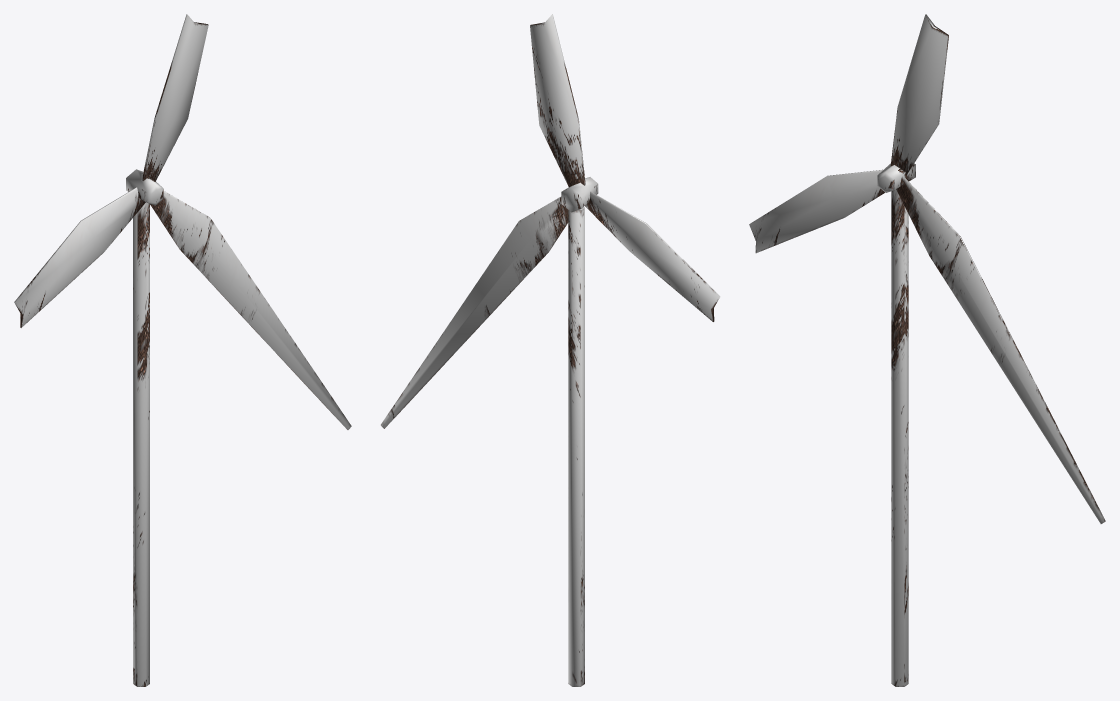
The model's file is molino.glb.
3 renders of one model, left to right at view 1: azimuth 30°, elevation 25°; view 2: azimuth 150°, elevation 25°; view 3: azimuth 330°, elevation 25°, orthographic. The views are drawn at different scales.
Parts seen in each view (by area): view 1: Plane.002; view 2: Plane.002; view 3: Plane.002.
Part boxes in pixels (x1,y1,x2,y2): Plane.002: (14, 14, 351, 686); Plane.002: (381, 14, 720, 686); Plane.002: (749, 14, 1105, 686).
Size of the model in its own units: 7.55 by 14.11 by 0.7724.
1 material, 1 textured.
